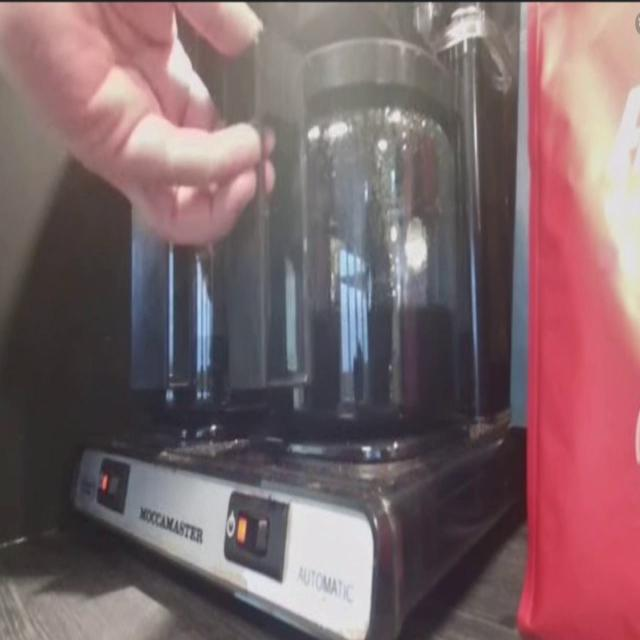coffee: (253, 28, 483, 454), (119, 72, 311, 440)
